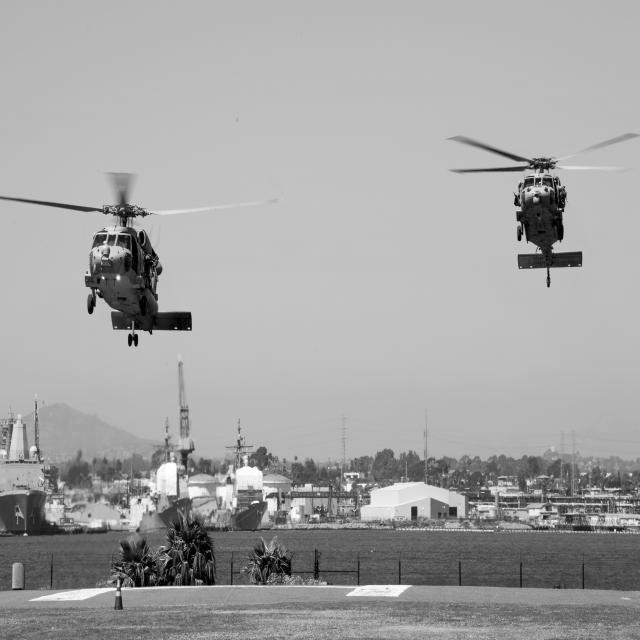helikopter: (15, 148, 272, 379), (425, 112, 632, 314)
